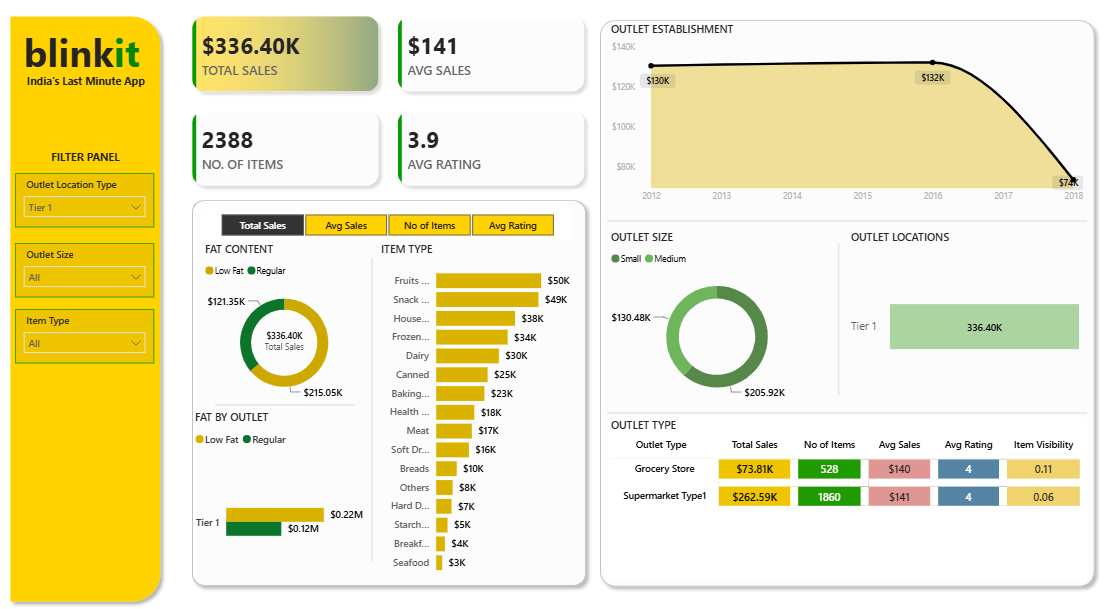

Layout of this report page (visuals, bound fields, positions):
{"tool":"powerbi","page":{"name":"Page 1","canvas":[1400,800],"ordinal":0},"visuals":[{"type":"shape","box":[10,20,206,750],"z":0},{"type":"textbox","box":[18,36,182,76],"z":1000},{"type":"textbox","box":[28,96,172,30],"z":2000},{"type":"cardVisual","fields":{"Data":["BlinkIT Grocery Data.Total Sales","BlinkIT Grocery Data.Avg Sales","BlinkIT Grocery Data.No of Items","BlinkIT Grocery Data.Avg Rating"]},"box":[218,0,548,270],"z":3000},{"type":"shape","box":[237.5,250,510,500],"z":4000},{"type":"donutChart","title":"FAT CONTENT","fields":{"Y":["BlinkIT Grocery Data.Total Sales"],"Category":["BlinkIT Grocery Data.Item Fat Content"]},"box":[258,310,208,210],"z":5000},{"type":"slicer","fields":{"Values":["Metrics.Metrics"]},"box":[258.3,270,465,40],"z":6000},{"type":"cardVisual","fields":{"Data":["BlinkIT Grocery Data.Total Sales"]},"box":[332,416,124,54],"z":7000},{"type":"clusteredBarChart","title":"FAT BY OUTLET","fields":{"Y":["BlinkIT Grocery Data.Total Sales"],"Category":["BlinkIT Grocery Data.Outlet Location Type"],"Series":["BlinkIT Grocery Data.Item Fat Content"]},"box":[246,520,220,230],"z":8000},{"type":"shape","box":[274,510,174,10],"z":9000},{"type":"shape","box":[466,330,12,380],"z":10000},{"type":"barChart","title":"ITEM TYPE","fields":{"Y":["BlinkIT Grocery Data.Total Sales"],"Category":["BlinkIT Grocery Data.Item Type"]},"box":[478,310,246,426],"z":11000},{"type":"shape","box":[748,24,636,726],"z":12000},{"type":"lineChart","title":"OUTLET ESTABLISHMENT","fields":{"Y":["BlinkIT Grocery Data.Total Sales"],"Category":["BlinkIT Grocery Data.Outlet Establishment Year"]},"box":[766,36,600,236],"z":13000},{"type":"shape","box":[766,280,600,10],"z":14000},{"type":"donutChart","title":"OUTLET SIZE","fields":{"Y":["BlinkIT Grocery Data.Total Sales"],"Category":["BlinkIT Grocery Data.Outlet Size"]},"box":[766,294,275,225],"z":15000},{"type":"shape","box":[1042,312,24,190],"z":16000},{"type":"funnel","title":"OUTLET LOCATIONS","fields":{"Y":["Sum(BlinkIT Grocery Data.Sales)"],"Category":["BlinkIT Grocery Data.Outlet Location Type"]},"box":[1066,294,300,226],"z":17000},{"type":"shape","box":[766,520,600,10],"z":18000},{"type":"pivotTable","title":"OUTLET TYPE","fields":{"Rows":["BlinkIT Grocery Data.Outlet Type"],"Values":["BlinkIT Grocery Data.Total Sales","BlinkIT Grocery Data.No of Items","BlinkIT Grocery Data.Avg Sales","BlinkIT Grocery Data.Avg Rating","Avg(BlinkIT Grocery Data.Item Visibility)"]},"box":[766,530,600,206],"z":19000},{"type":"slicer","fields":{"Values":["BlinkIT Grocery Data.Outlet Location Type"]},"box":[26,226,174,68],"z":20000},{"type":"slicer","fields":{"Values":["BlinkIT Grocery Data.Outlet Size"]},"box":[26,312,174,68],"z":21000},{"type":"slicer","fields":{"Values":["BlinkIT Grocery Data.Item Type"]},"box":[26,396,174,68],"z":22000},{"type":"textbox","box":[56,190,116,36],"z":22001}]}

Visuals, with their boxes on the page's 1400x800 design canvas (x1, y1, x2, y2). These are canvas units, not pixel positions in the 1110x609 screenshot, which may show the page scaled, cropped or inside an application window:
shape: left=10, top=20, right=216, bottom=770
textbox: left=18, top=36, right=200, bottom=112
textbox: left=28, top=96, right=200, bottom=126
cardVisual - BlinkIT Grocery Data.Total Sales x BlinkIT Grocery Data.Avg Sales: left=218, top=0, right=766, bottom=270
shape: left=238, top=250, right=748, bottom=750
"FAT CONTENT" donutChart: left=258, top=310, right=466, bottom=520
slicer - Metrics.Metrics: left=258, top=270, right=723, bottom=310
cardVisual - BlinkIT Grocery Data.Total Sales: left=332, top=416, right=456, bottom=470
"FAT BY OUTLET" clusteredBarChart: left=246, top=520, right=466, bottom=750
shape: left=274, top=510, right=448, bottom=520
shape: left=466, top=330, right=478, bottom=710
"ITEM TYPE" barChart: left=478, top=310, right=724, bottom=736
shape: left=748, top=24, right=1384, bottom=750
"OUTLET ESTABLISHMENT" lineChart: left=766, top=36, right=1366, bottom=272
shape: left=766, top=280, right=1366, bottom=290
"OUTLET SIZE" donutChart: left=766, top=294, right=1041, bottom=519
shape: left=1042, top=312, right=1066, bottom=502
"OUTLET LOCATIONS" funnel: left=1066, top=294, right=1366, bottom=520
shape: left=766, top=520, right=1366, bottom=530
"OUTLET TYPE" pivotTable: left=766, top=530, right=1366, bottom=736
slicer - BlinkIT Grocery Data.Outlet Location Type: left=26, top=226, right=200, bottom=294
slicer - BlinkIT Grocery Data.Outlet Size: left=26, top=312, right=200, bottom=380
slicer - BlinkIT Grocery Data.Item Type: left=26, top=396, right=200, bottom=464
textbox: left=56, top=190, right=172, bottom=226
